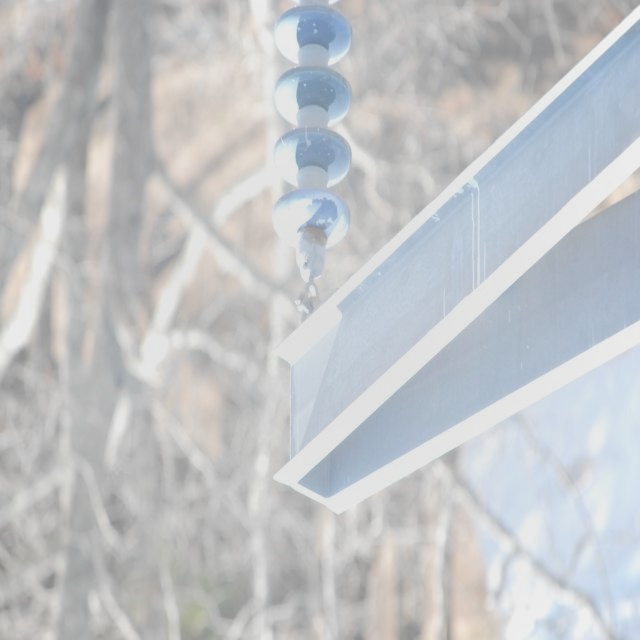insulator: (273, 8, 353, 247)
